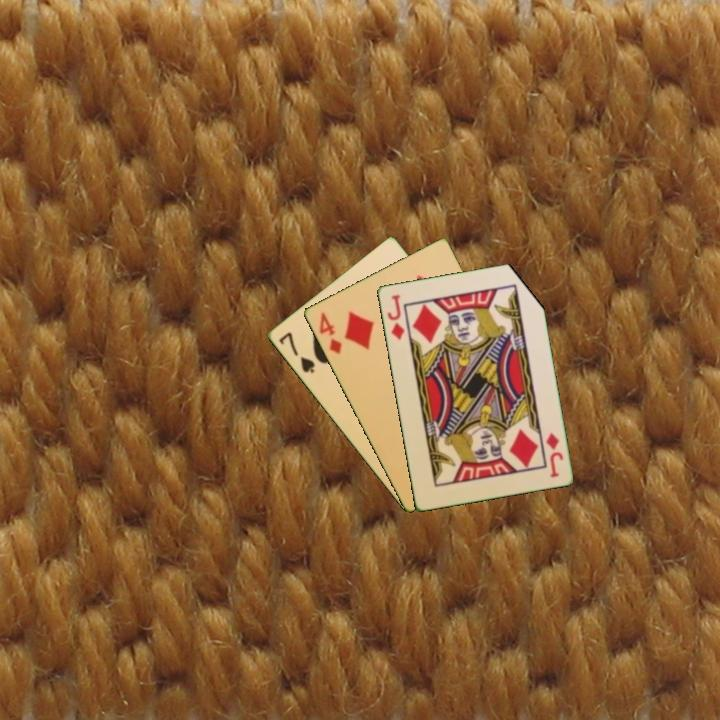4d: (315, 308, 344, 357)
7s: (275, 328, 317, 376)
Jd: (383, 291, 407, 342), (542, 429, 566, 480)
